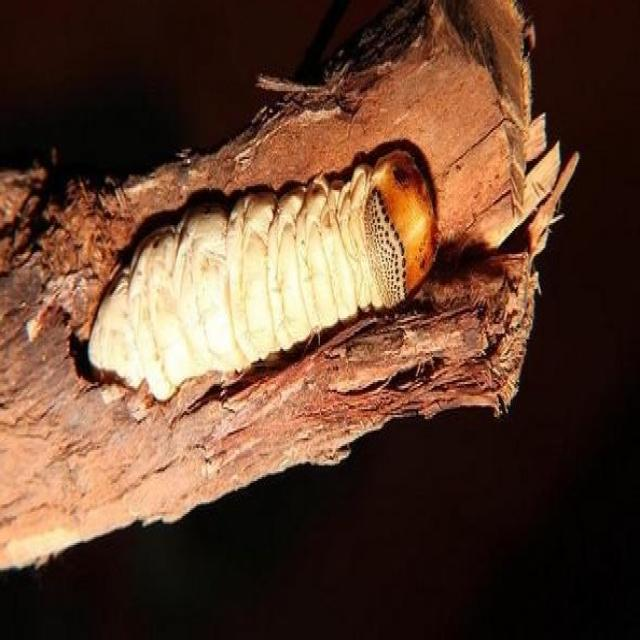grub: (71, 145, 437, 397)
